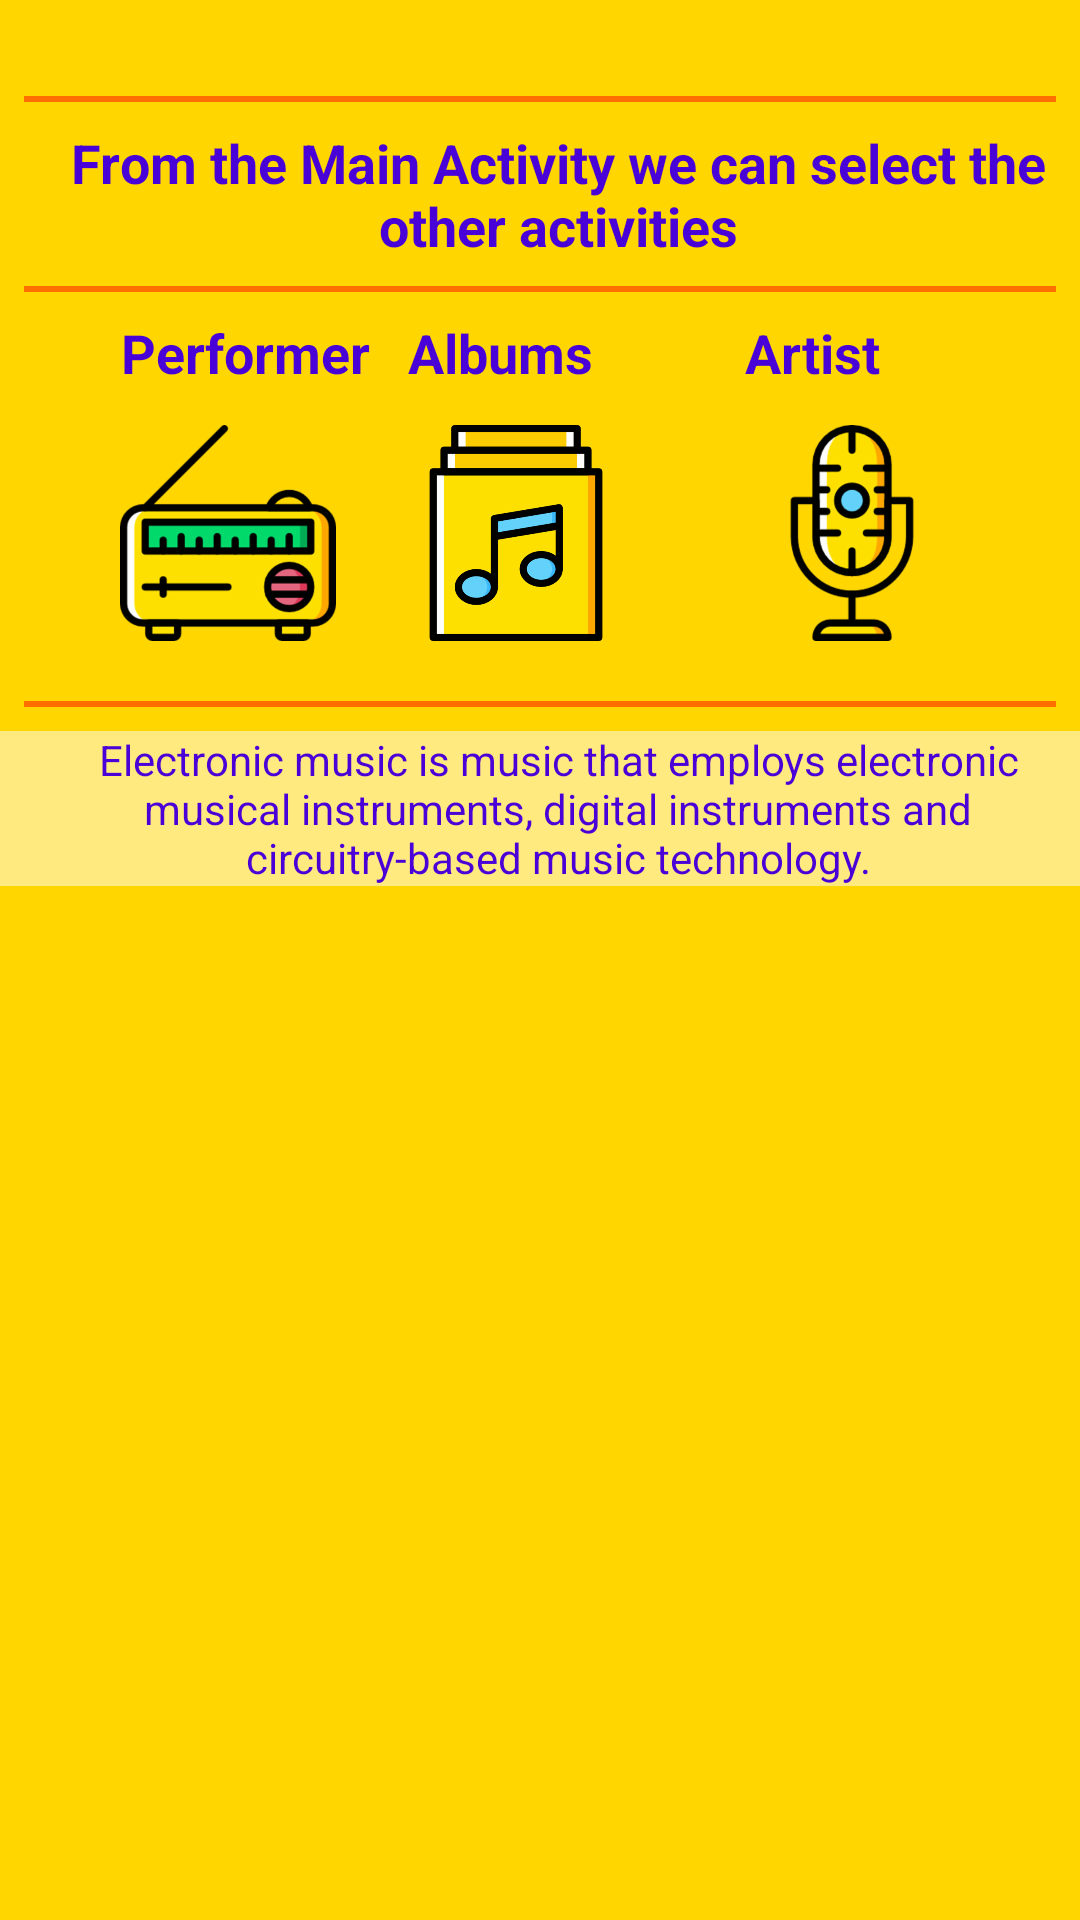

Named icons in this screenshot (1080w x 1920h) and their bounding boxes, (x1, y1, x2, y2):
microphone: (790, 425, 914, 641)
music album: (429, 425, 603, 641)
radio: (120, 425, 336, 641)
